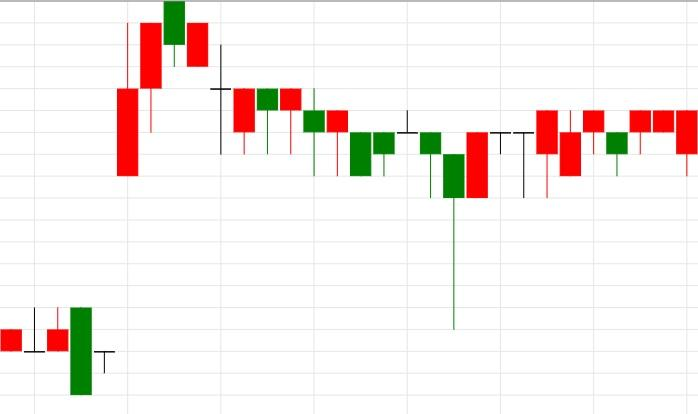hammer_rise: (164, 0, 349, 177), (163, 0, 303, 154), (164, 0, 279, 155), (396, 109, 465, 329)
